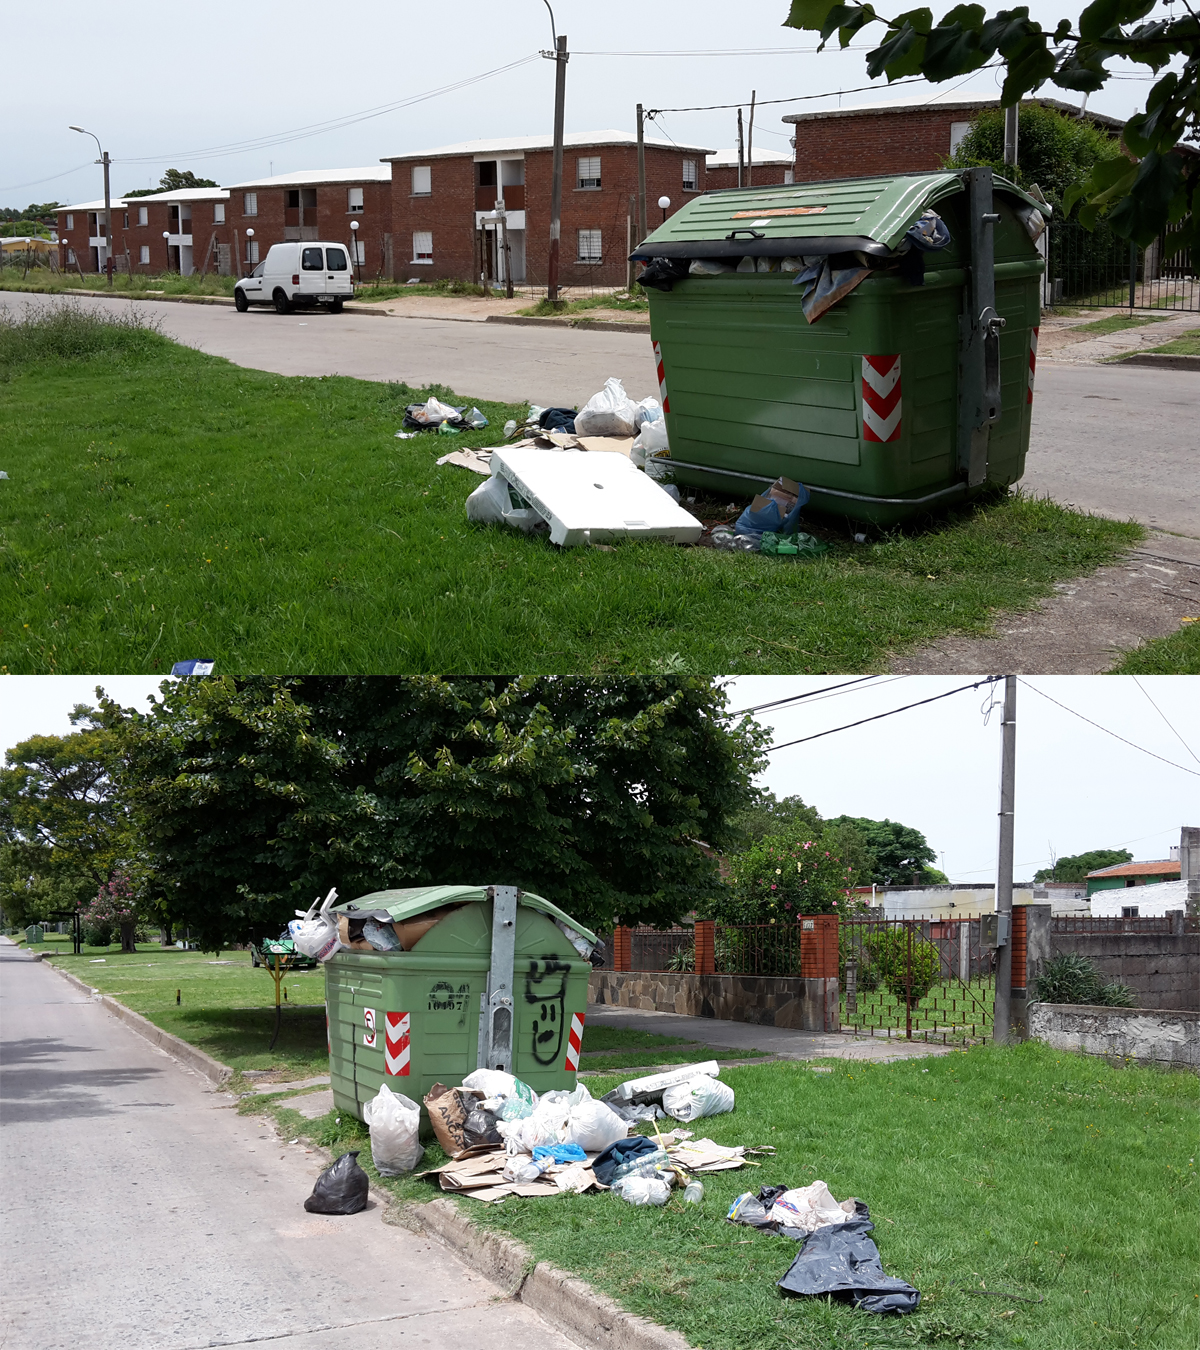container: (632, 176, 1042, 533), (320, 880, 587, 1121)
